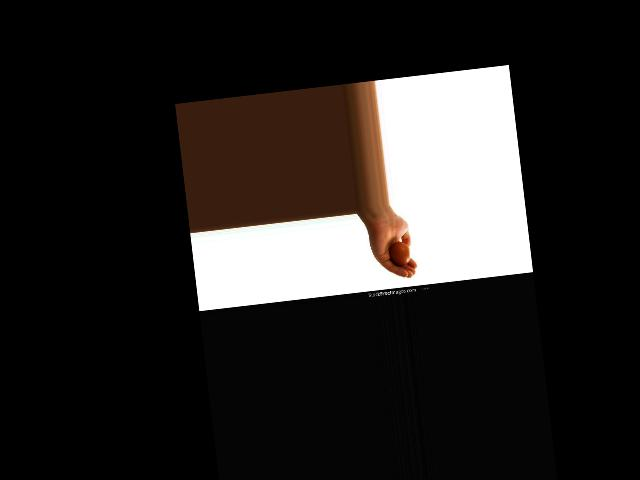egg: (388, 240, 411, 268)
